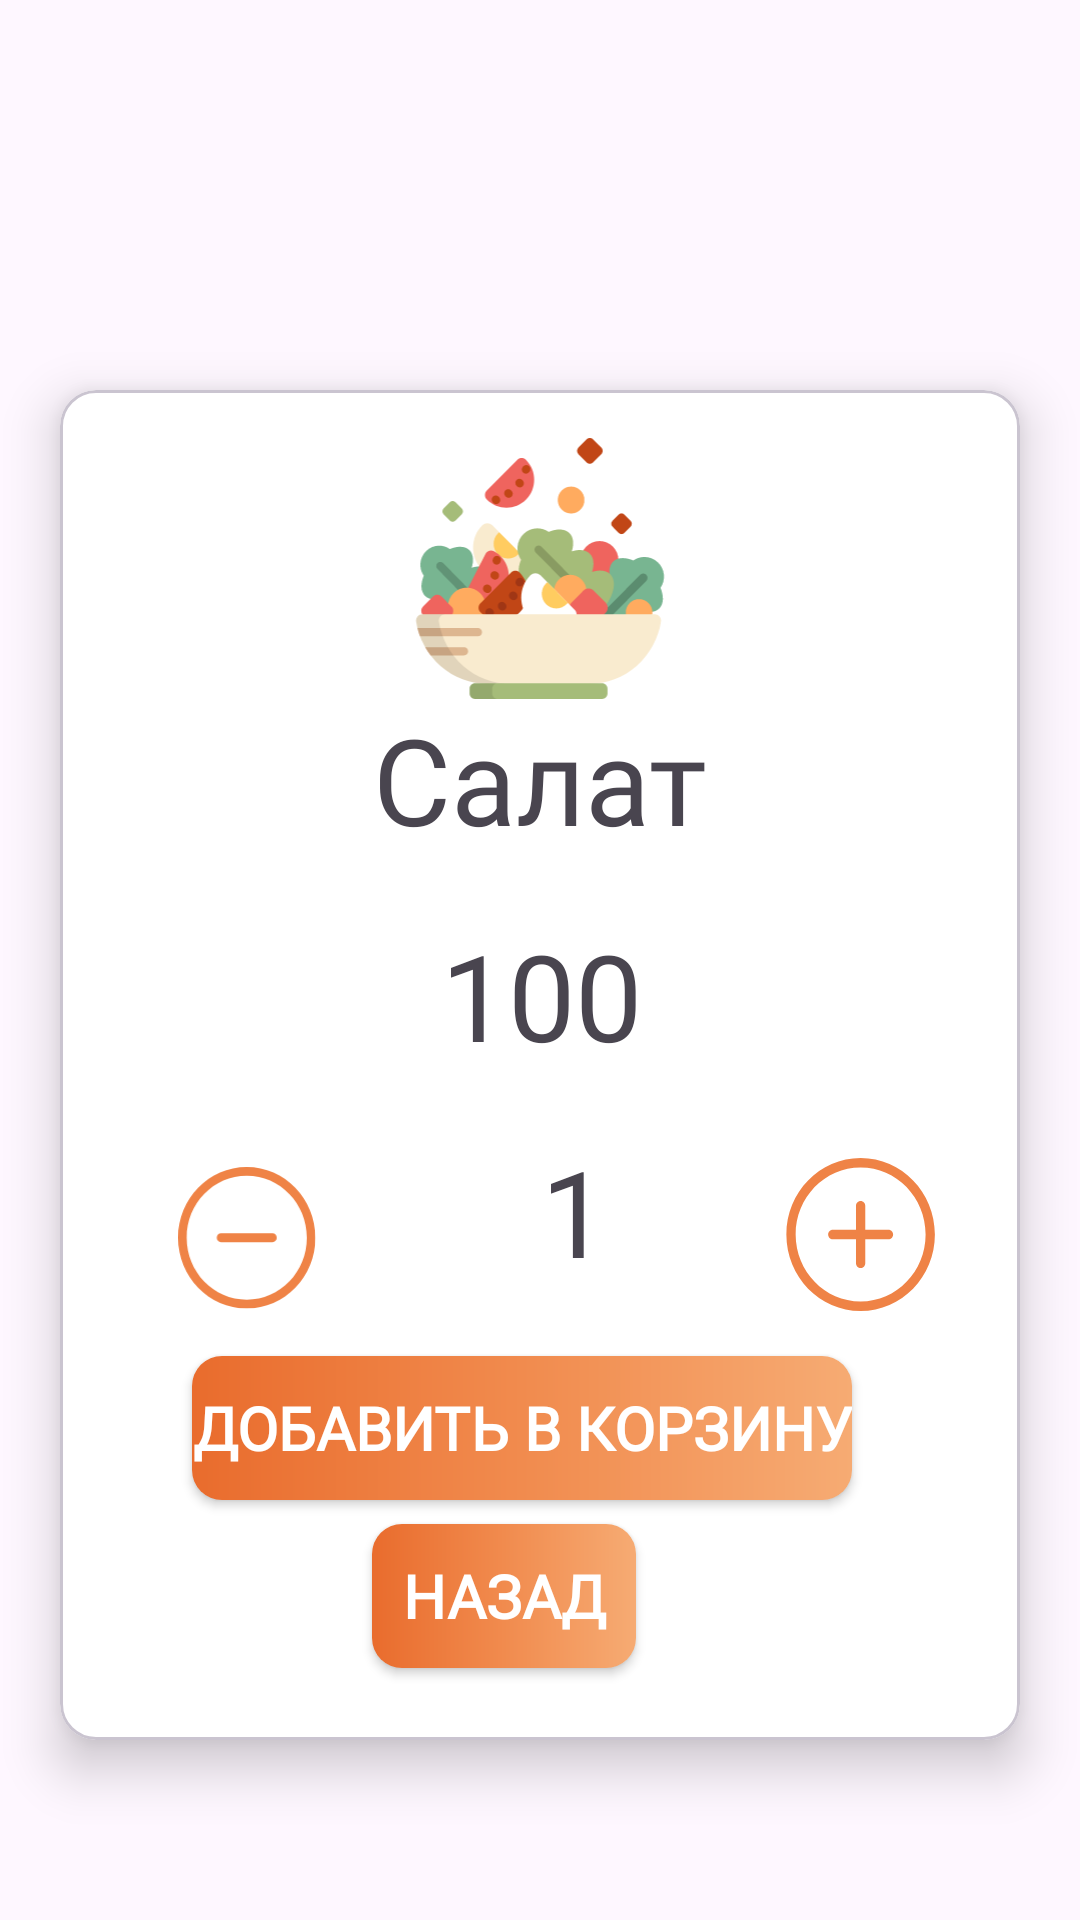

Icon click points for this 1080×1920 phone screenshot, format (x,y):
minus: (247,1238)
plus: (860,1234)
